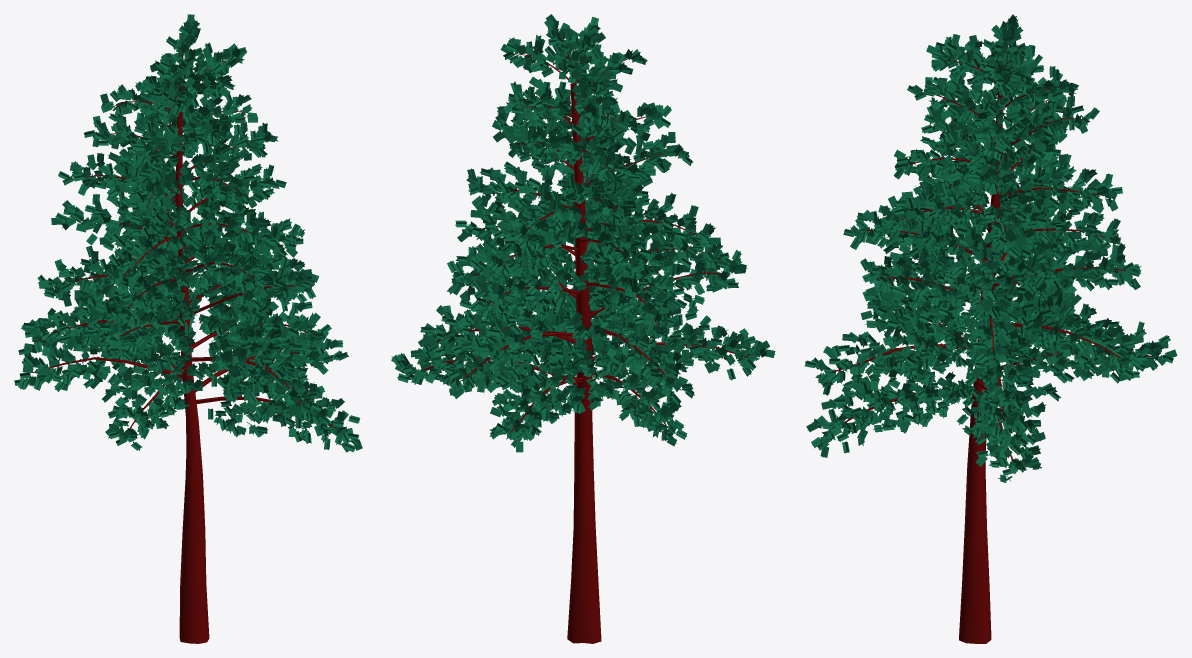
The model's file is Baum 4.FBX.
3 views of the same model, side by side, from view 1: azimuth 30°, elevation 25°; view 2: azimuth 150°, elevation 25°; view 3: azimuth 270°, elevation 25° (orthographic). The views are drawn at different scales.
Parts seen in each view (by area): view 1: Foliage001; view 2: Foliage001; view 3: Foliage001.
Boxes of the visible parts, left/top/right/bottom form: Foliage001: left=14, top=14, right=362, bottom=643; Foliage001: left=391, top=14, right=775, bottom=643; Foliage001: left=804, top=14, right=1177, bottom=643.
Bounding box in the file's own units: 394 × 744 × 399.
